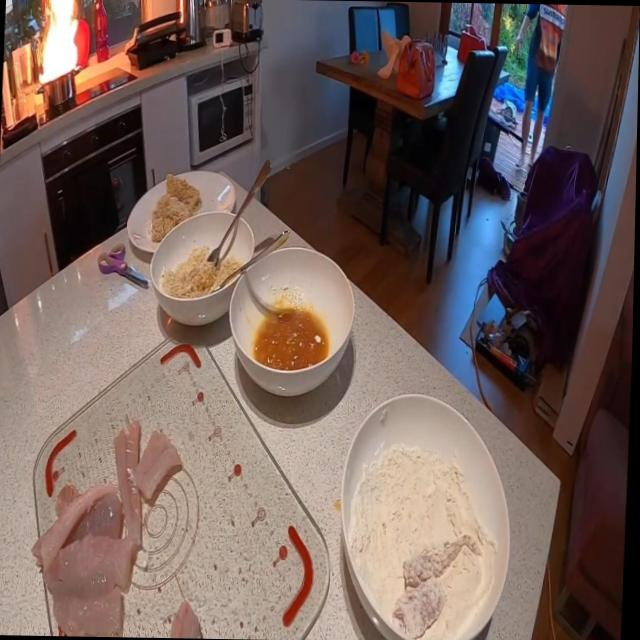fire: (35, 0, 82, 85)
